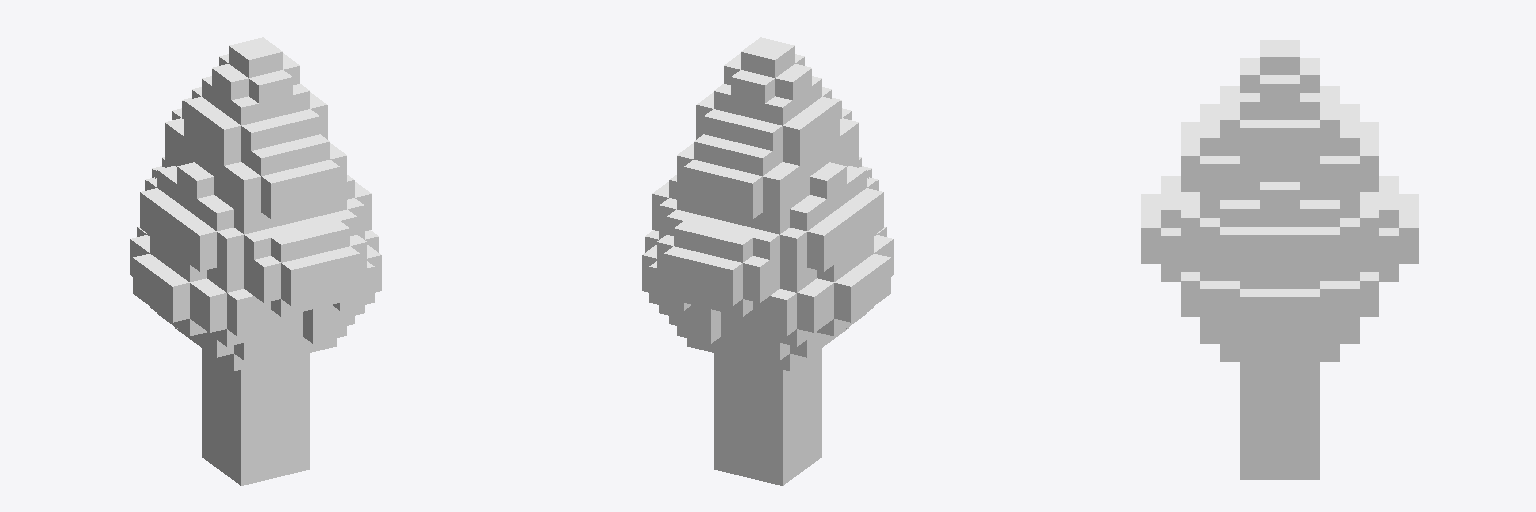
File: SmallTree2.obj
3 views of the same model, side by side, from view 1: azimuth 30°, elevation 25°; view 2: azimuth 150°, elevation 25°; view 3: azimuth 270°, elevation 25° (orthographic).
Size of the model in its own units: 12 by 23 by 14.